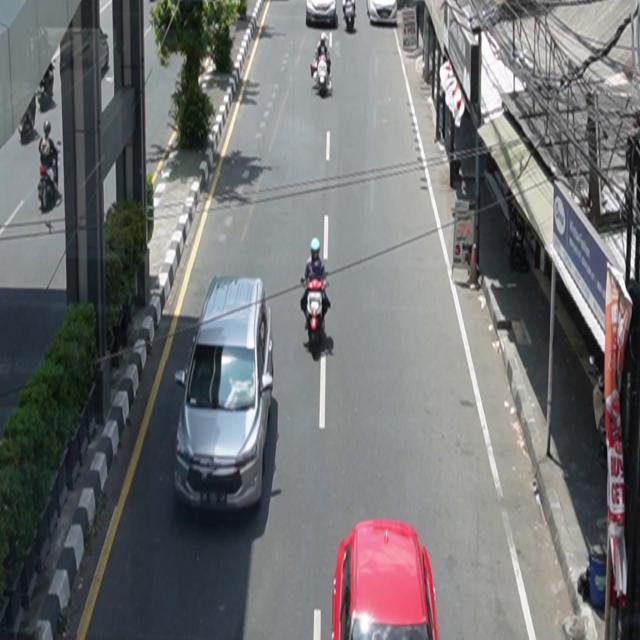car: (174, 275, 275, 515), (332, 520, 440, 640)
